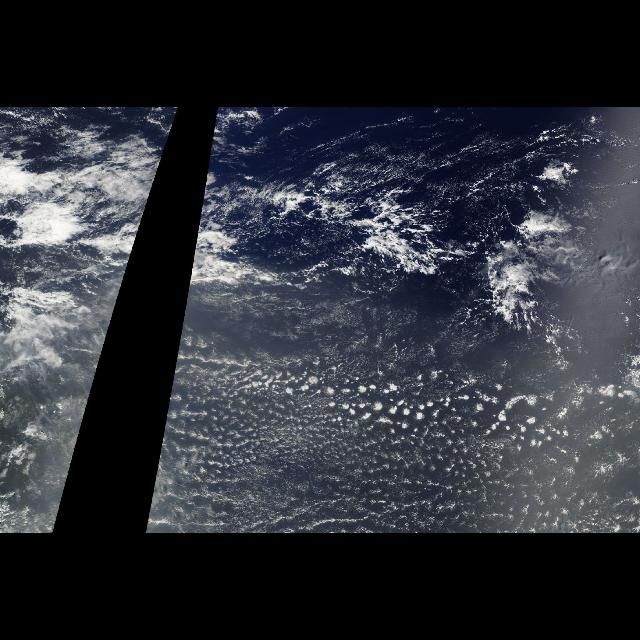Gravel: (177, 348, 595, 524)
Sugar: (200, 438, 392, 532), (316, 115, 482, 172)
